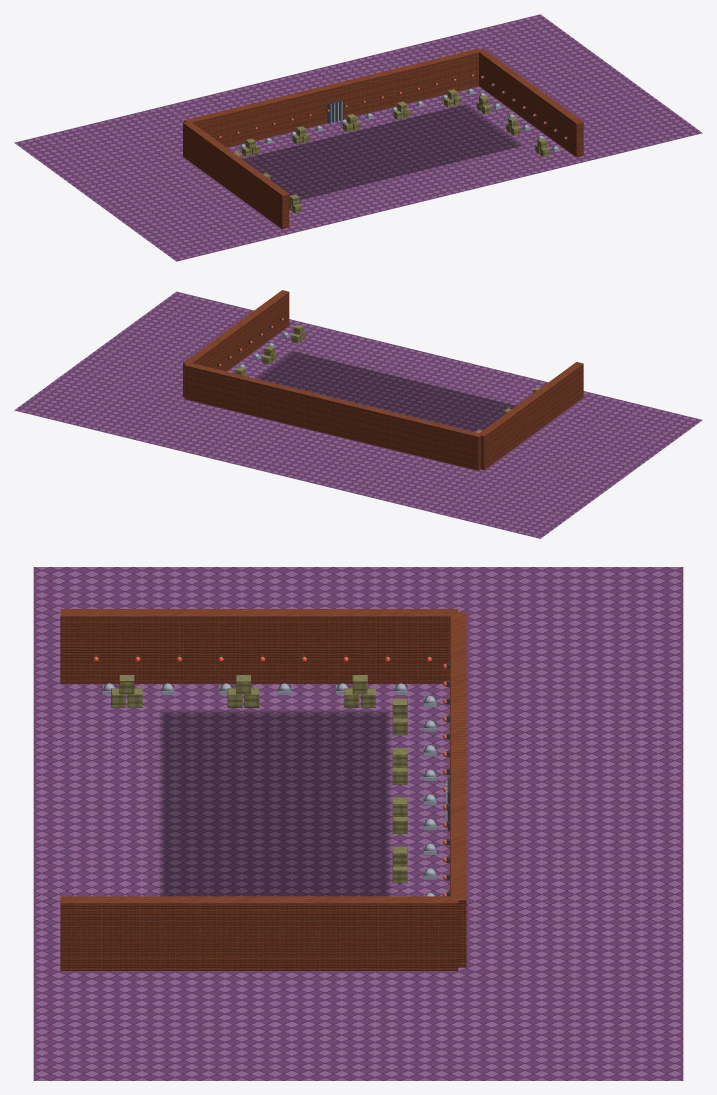
Rendered from surroundings_29x11.glb.
3 views of the same model, one above another, from view 1: azimuth 30°, elevation 25°; view 2: azimuth 150°, elevation 25°; view 3: azimuth 270°, elevation 25° (orthographic). The views are drawn at different scales.
Visible parts, largest first — view 1: ground, props; view 2: ground, props; view 3: ground, props.
Part boxes in pixels (x1=…): ground: x1=14, y1=14, x2=702, y2=261; props: x1=183, y1=48, x2=583, y2=229; ground: x1=14, y1=291, x2=702, y2=538; props: x1=183, y1=290, x2=583, y2=470; ground: x1=33, y1=567, x2=683, y2=1080; props: x1=60, y1=609, x2=466, y2=970.
Bounding box in the file's own units: 73 × 4.7 × 39.
2 materials, 2 textured.
